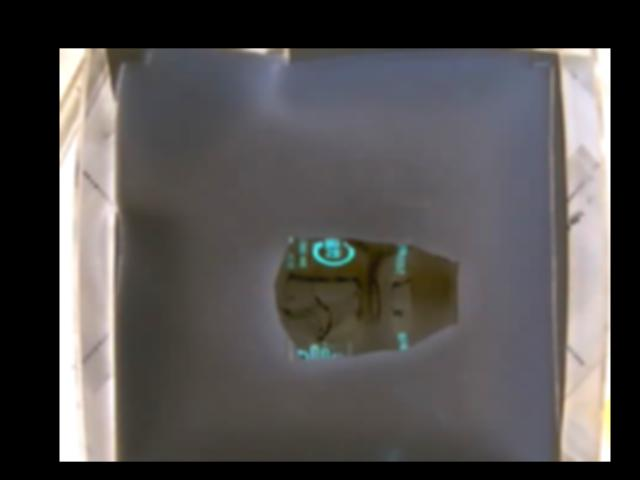Bottle: (271, 235, 460, 360)
